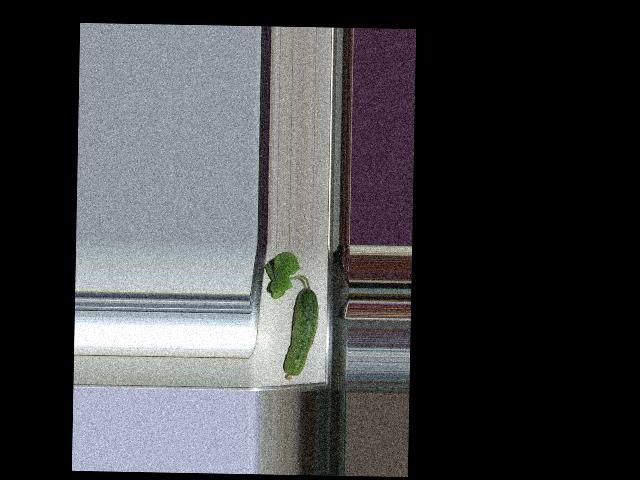cucumber: (283, 286, 318, 381)
